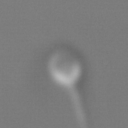normal: (66, 86, 102, 128)
